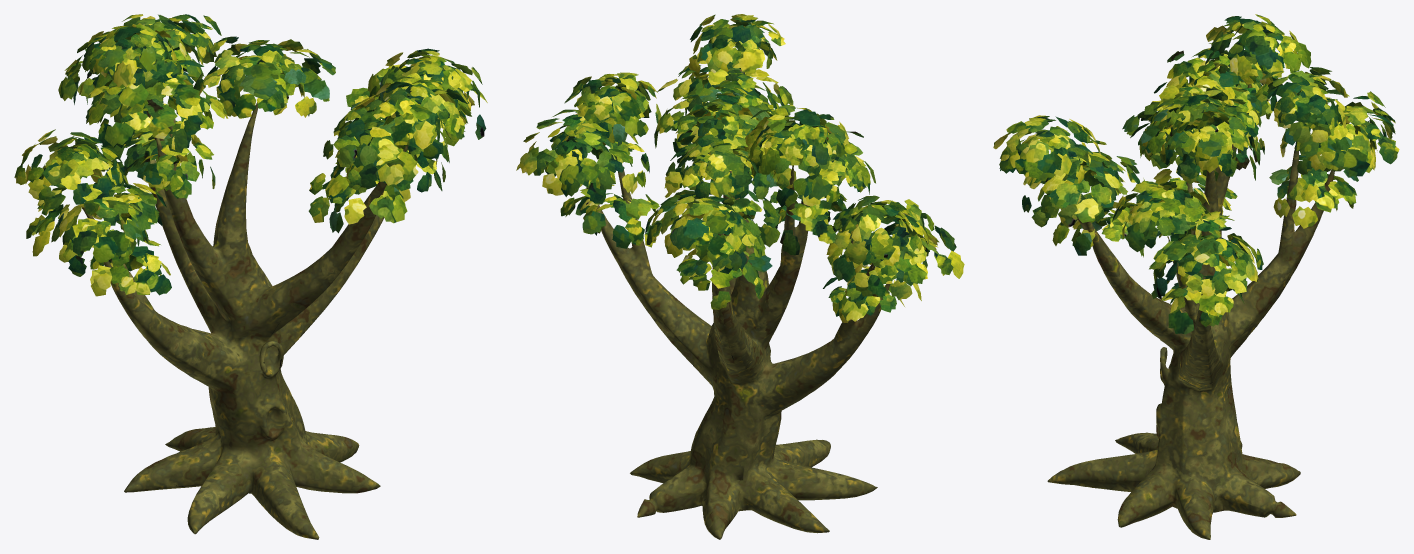
Rendered from elder_oak_lod0.glb.
3 renders of one model, left to right at view 1: azimuth 30°, elevation 25°; view 2: azimuth 150°, elevation 25°; view 3: azimuth 270°, elevation 25°, orthographic. The views are drawn at different scales.
Visible parts, largest first — view 1: Leaves_LOD0, Trunk_LOD0; view 2: Leaves_LOD0, Trunk_LOD0; view 3: Leaves_LOD0, Trunk_LOD0.
Part boxes in pixels (<box>): Leaves_LOD0: <box>14,14,487,296</box>; Trunk_LOD0: <box>82,96,408,539</box>; Leaves_LOD0: <box>516,14,964,322</box>; Trunk_LOD0: <box>586,93,890,539</box>; Leaves_LOD0: <box>993,14,1399,334</box>; Trunk_LOD0: <box>1047,84,1334,539</box>.
Size of the model in its own units: 6.68 by 6.41 by 5.44.
2 materials, 2 textured.
